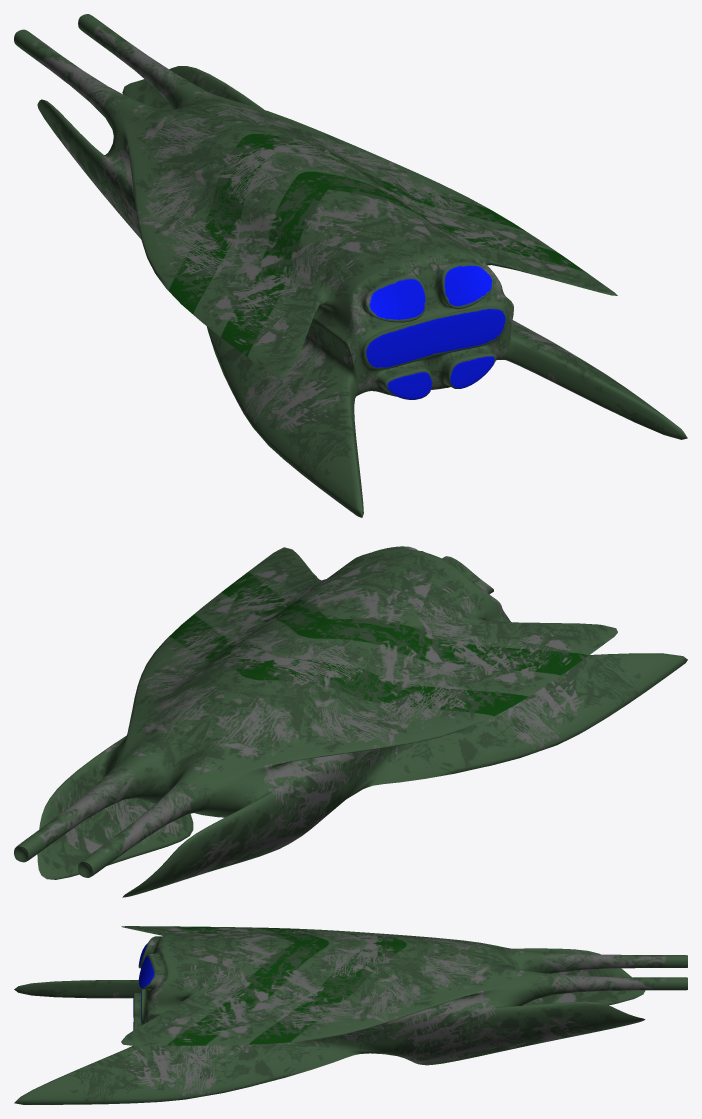
File: Dart.fbx
3 renders of one model, top to bottom at view 1: azimuth 30°, elevation 25°; view 2: azimuth 150°, elevation 25°; view 3: azimuth 270°, elevation 25°, orthographic. The views are drawn at different scales.
Visible parts, largest first — view 1: Cube; view 2: Cube; view 3: Cube.
Boxes of the visible parts, <box> form: Cube: <box>14,14,687,517</box>; Cube: <box>14,546,687,897</box>; Cube: <box>14,926,687,1104</box>.
Bounding box in the file's own units: 868 × 366 × 2076.
